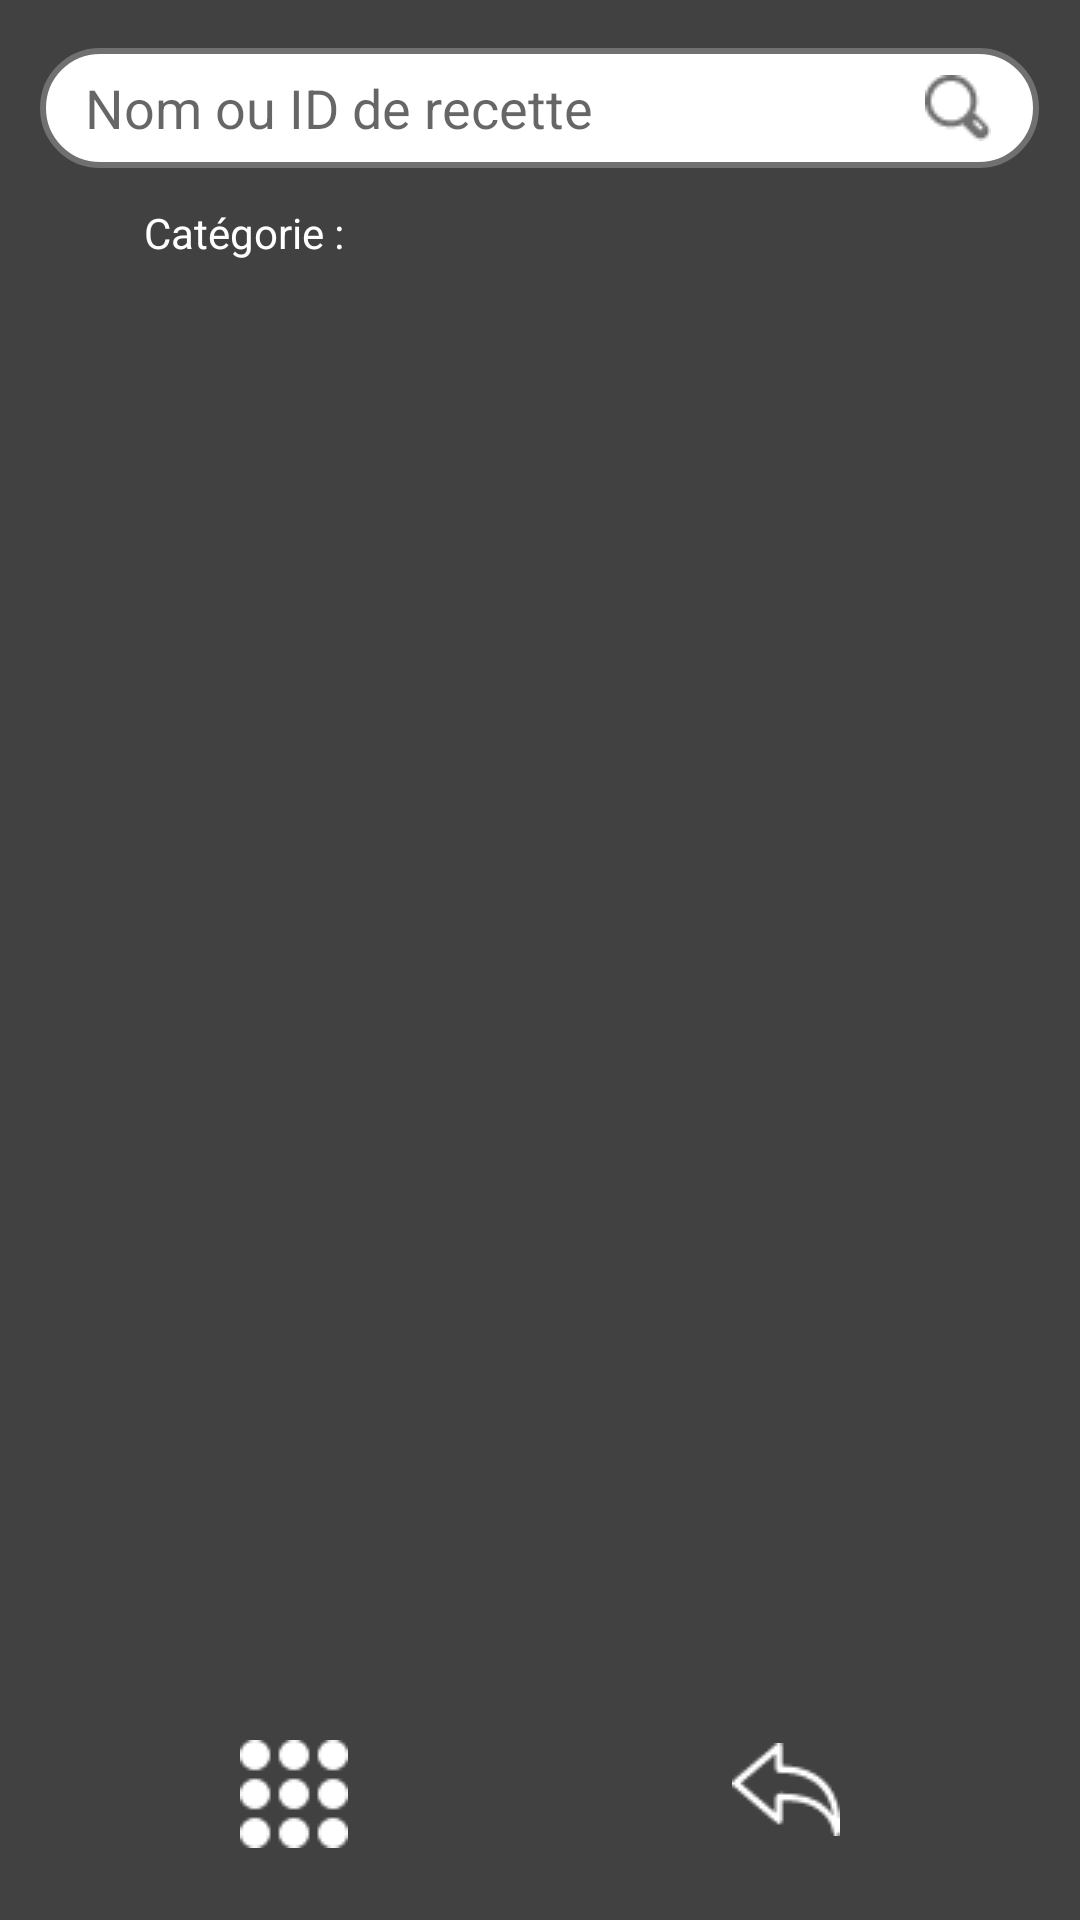

Icon click points for this 1080×1920 phone screenshot, format point (x, y):
back: point (786, 1789)
search: point (958, 108)
